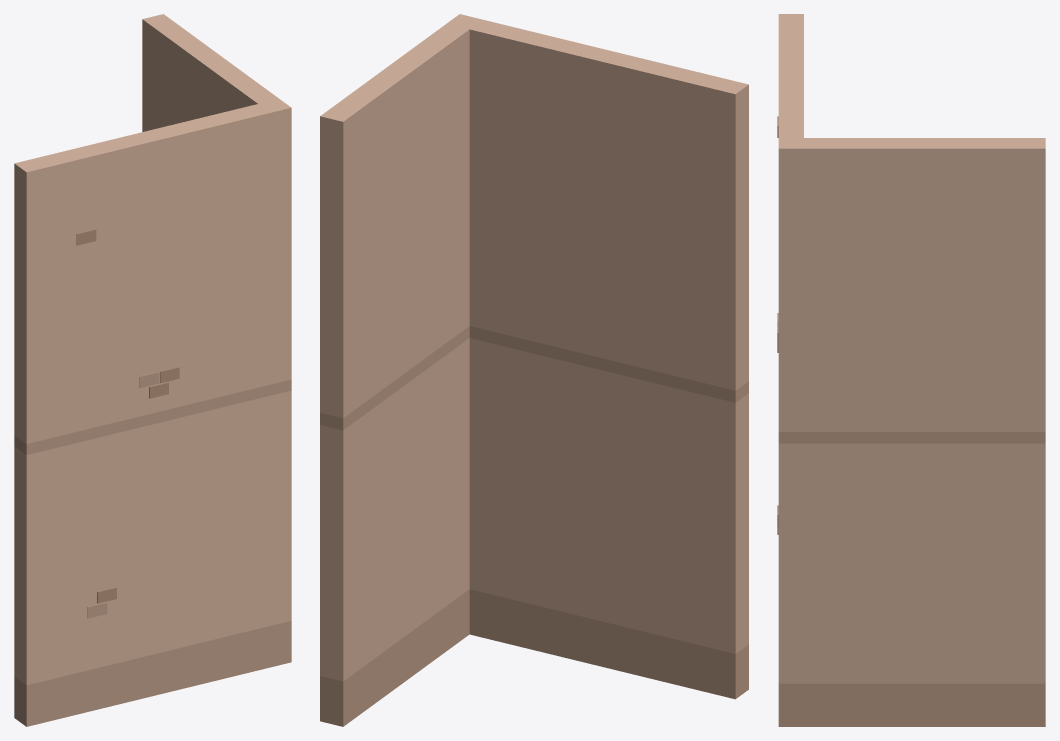
The model's file is Wall_13.fbx.
The picture shows the model from 3 angles, left to right: view 1: azimuth 30°, elevation 25°; view 2: azimuth 150°, elevation 25°; view 3: azimuth 270°, elevation 25°; orthographic projection. The views are drawn at different scales.
Visible parts, largest first — view 1: Wall_13; view 2: Wall_13; view 3: Wall_13.
Part boxes in pixels (x1,y1,x2,y2): Wall_13: (14, 14, 291, 726); Wall_13: (320, 14, 748, 726); Wall_13: (777, 14, 1045, 726).
Bounding box in the file's own units: 500 × 1000 × 420.
